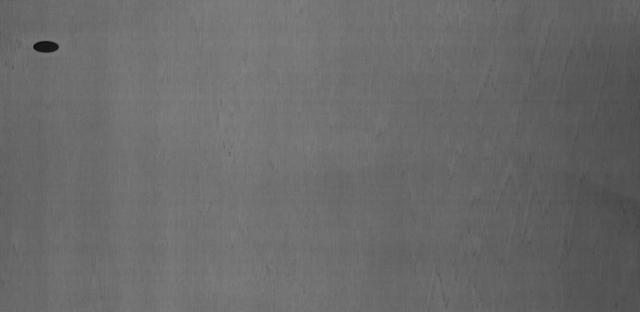punching_hole: (29, 38, 66, 56)
